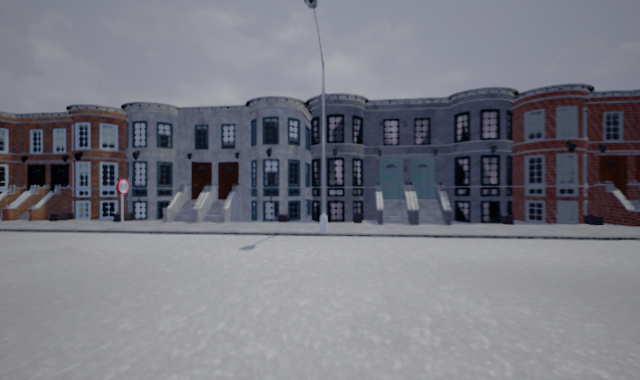traffic_sign: (115, 178, 131, 194)
